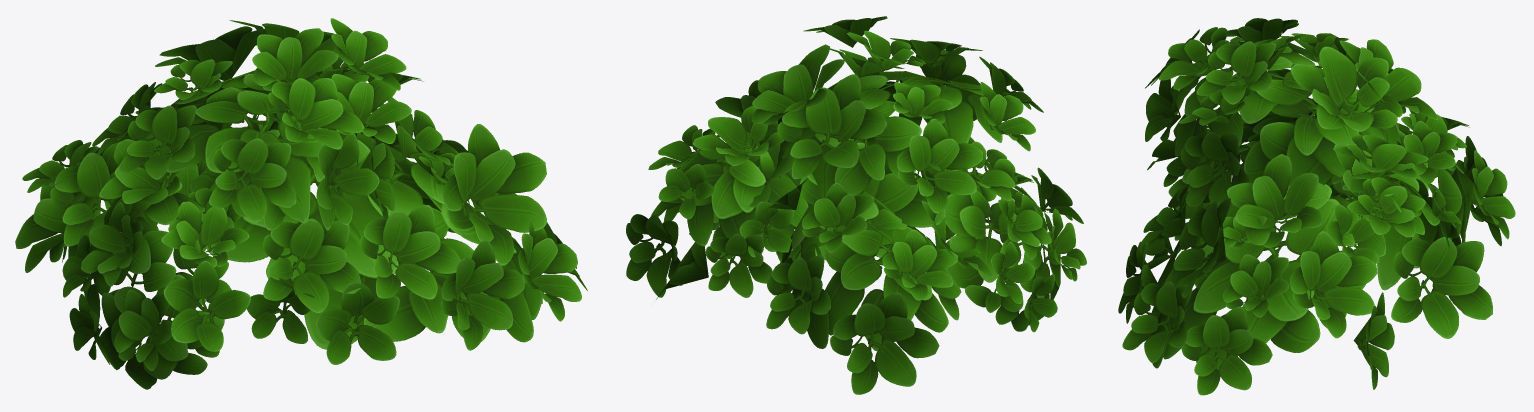
File: SE_Bush_06.fbx
The picture shows the model from 3 angles, left to right: view 1: azimuth 30°, elevation 25°; view 2: azimuth 150°, elevation 25°; view 3: azimuth 270°, elevation 25°; orthographic projection. The views are drawn at different scales.
Parts seen in each view (by area): view 1: SE_Bush_06; view 2: SE_Bush_06; view 3: SE_Bush_06.
Part boxes in pixels (box(x1,y1,x2,y2)): SE_Bush_06: box(15, 18, 587, 389); SE_Bush_06: box(626, 16, 1086, 394); SE_Bush_06: box(1118, 18, 1515, 395).
Size of the model in its own units: 5.2 by 3.37 by 4.43.
